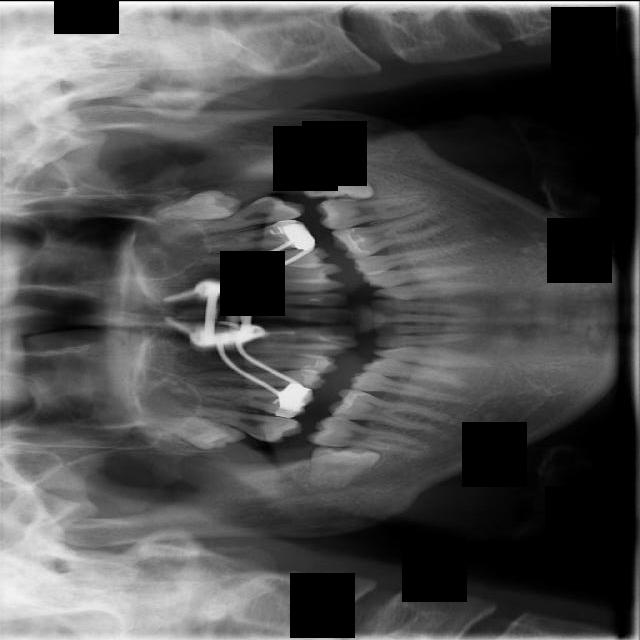3M ESPE Implant: (135, 408, 247, 454)
52: (325, 377, 374, 428), (332, 227, 374, 258), (301, 353, 341, 374), (302, 366, 327, 389)
73: (596, 38, 610, 46)
BioHorizons Implant: (184, 189, 307, 237)
BioLife Implant: (155, 187, 241, 222)
Biomet 3i Implant: (304, 156, 376, 198)
Blue Sky Bio Implant: (314, 194, 425, 232)
Caries: (191, 402, 304, 446)
Implant: (307, 414, 422, 455)
Keystone Dental Implant: (308, 445, 378, 489)
